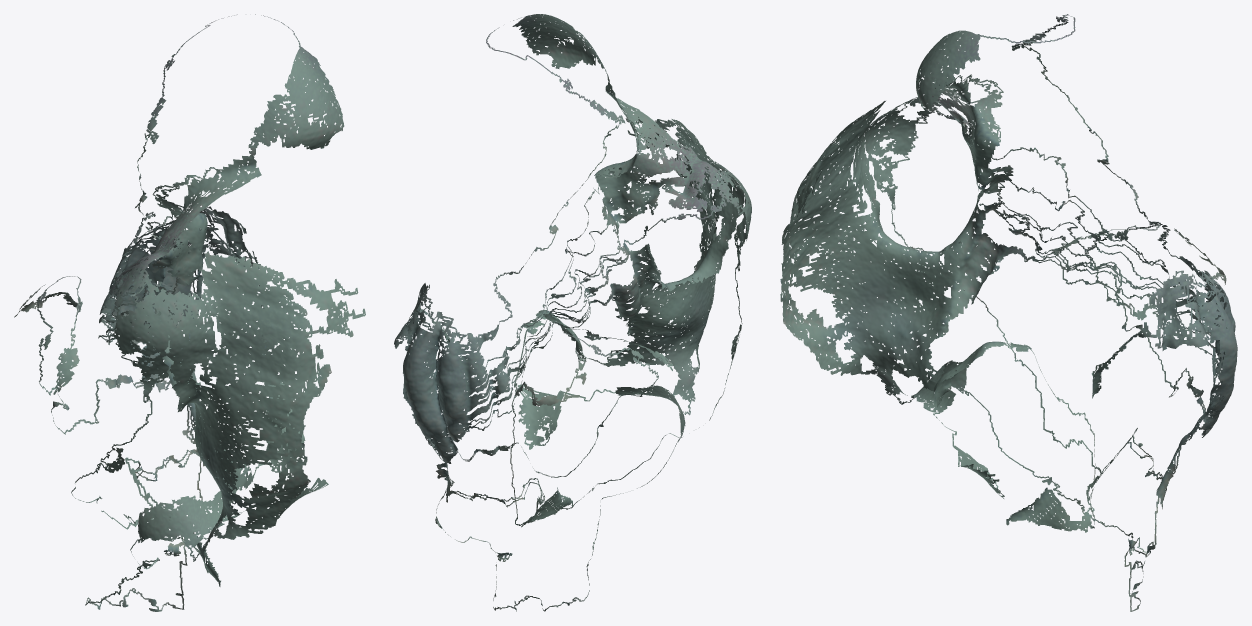
The model's file is cthulhu17_material_0_lev1.glb.
3 views of the same model, side by side, from view 1: azimuth 30°, elevation 25°; view 2: azimuth 150°, elevation 25°; view 3: azimuth 270°, elevation 25° (orthographic). The views are drawn at different scales.
Parts seen in each view (by area): view 1: cthulhu17_material_0_lev1; view 2: cthulhu17_material_0_lev1; view 3: cthulhu17_material_0_lev1.
Part boxes in pixels (left/top/right/bottom): cthulhu17_material_0_lev1: left=14, top=14, right=365, bottom=611; cthulhu17_material_0_lev1: left=394, top=14, right=751, bottom=611; cthulhu17_material_0_lev1: left=780, top=14, right=1237, bottom=611.
Size of the model in its own units: 1.82 by 3.93 by 2.74.
